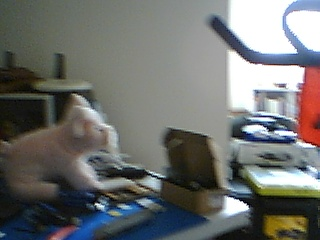piggy: (1, 92, 121, 204)
